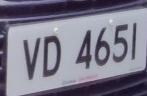1: (128, 17, 141, 64)
4: (72, 26, 95, 73)
5: (110, 18, 130, 64)
6: (93, 21, 114, 71)
D: (41, 31, 65, 82)
V: (21, 35, 43, 83)
